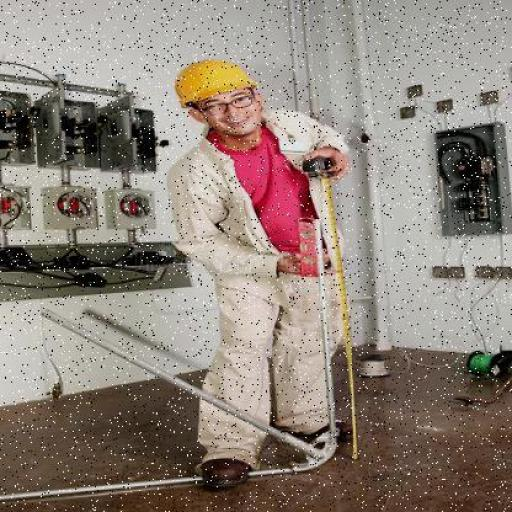person: (155, 60, 357, 490)
safety_shoe: (207, 453, 253, 489)
